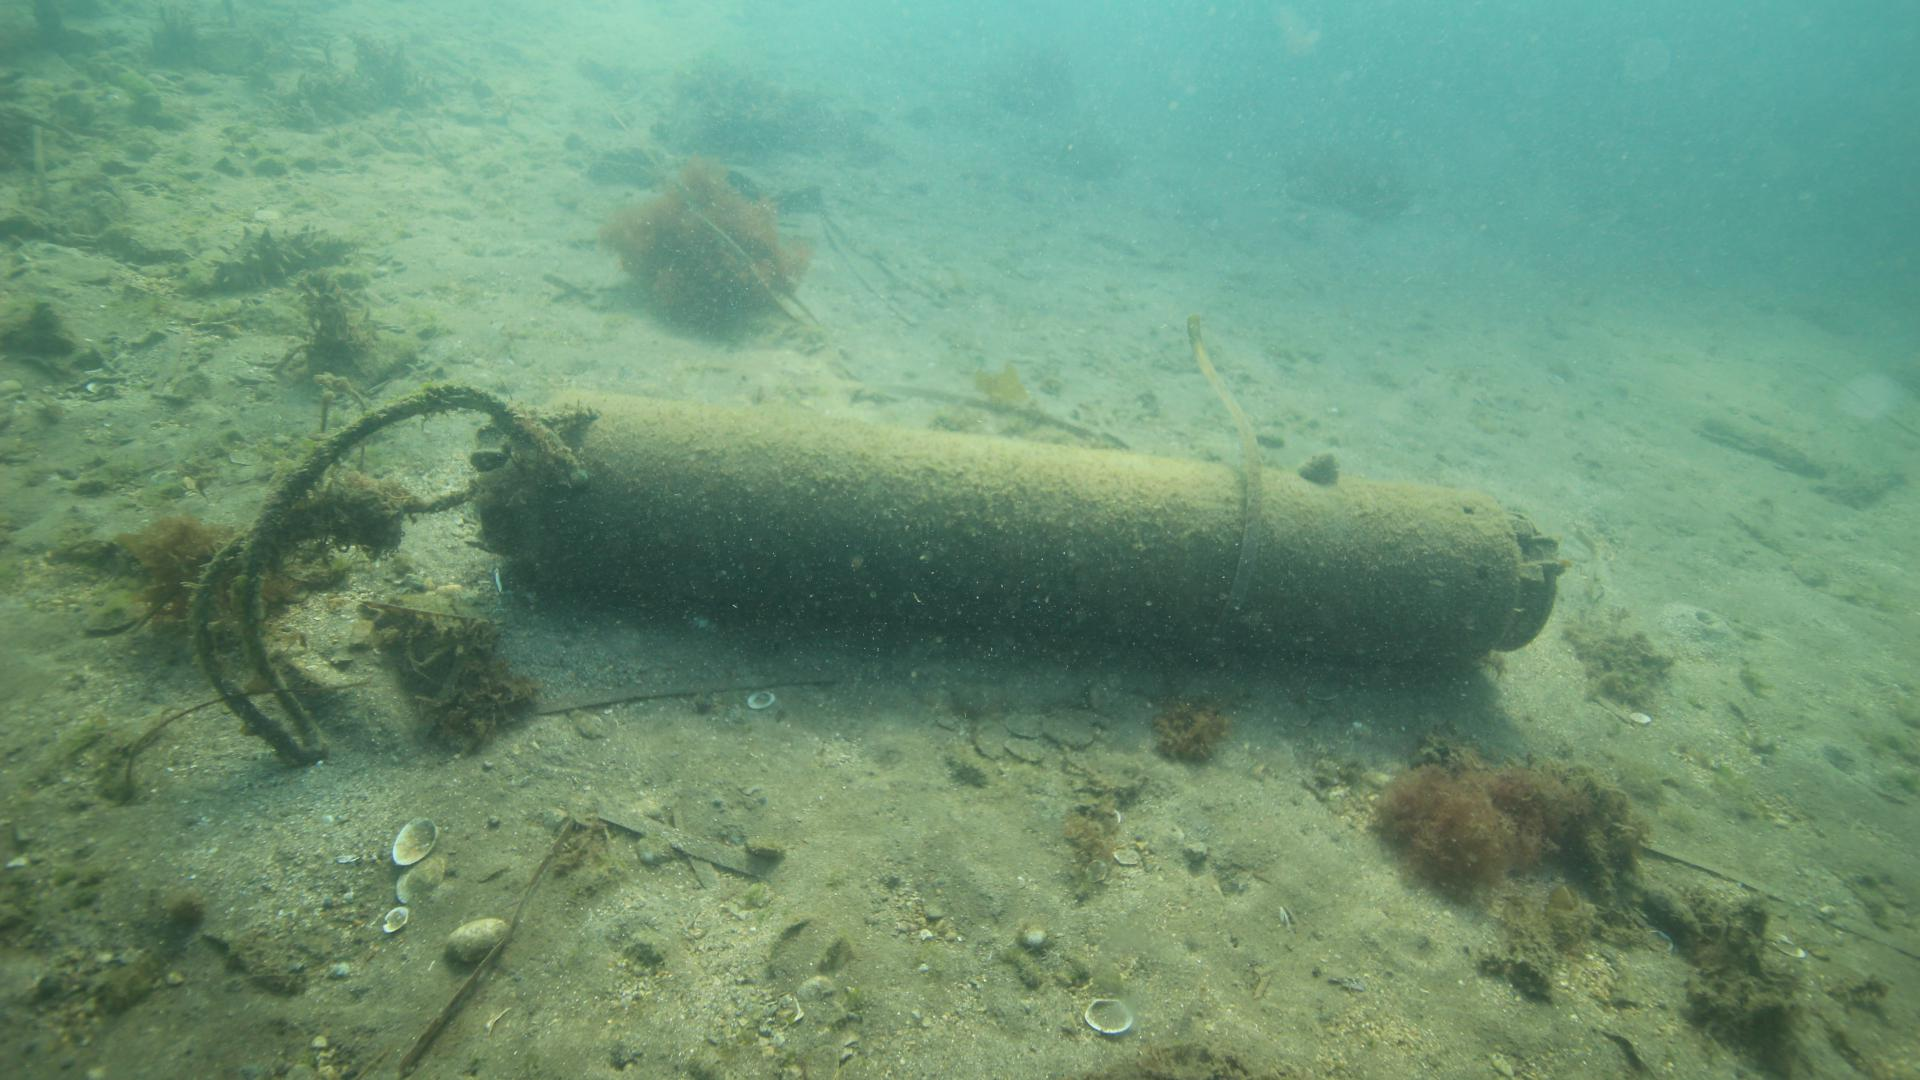bundle of ropes: (185, 396, 589, 766)
eel fish trap: (469, 386, 1560, 659)
